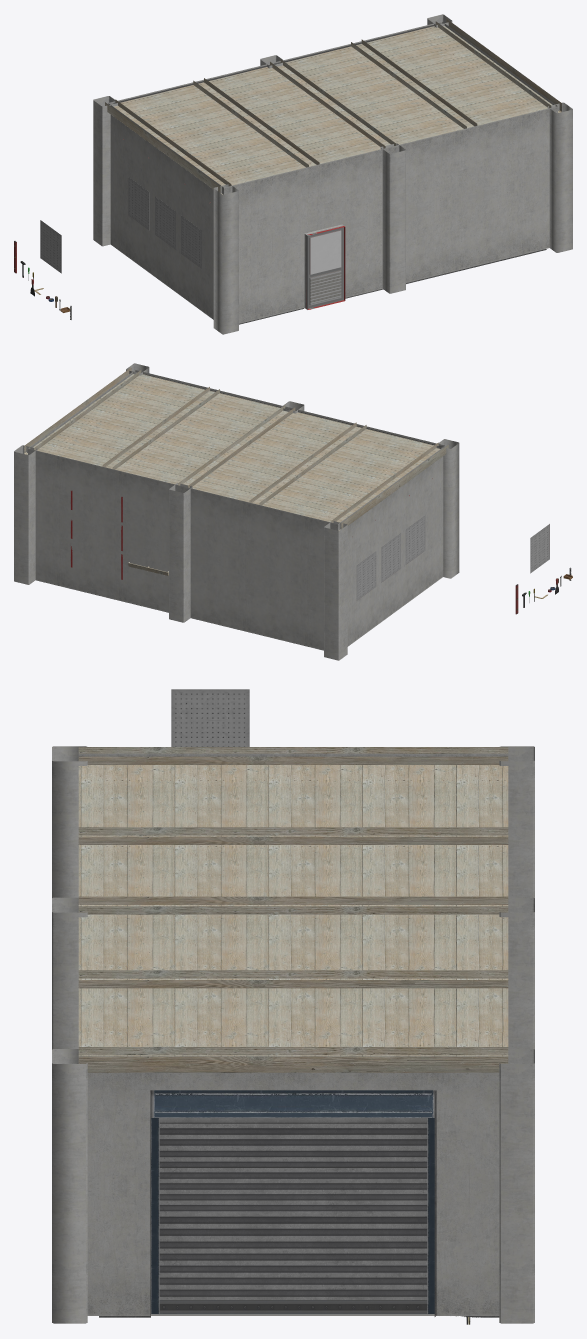
The model's file is oficina_nova.glb.
The picture shows the model from 3 angles, top to bottom: view 1: azimuth 30°, elevation 25°; view 2: azimuth 150°, elevation 25°; view 3: azimuth 270°, elevation 25°; orthographic projection. The views are drawn at different scales.
Visible parts, largest first — view 1: prop_garage_wall, prop_garage_roof, prop_garage_door, prop_garage_wooden_beams.003, prop_garage_wooden_beams.004, prop_garage_wooden_beams.001, prop_garage_wooden_beams.002, prop_garage_wooden_beams, dec_garage_damage_concrete, prop_garage_tool_stand.015, prop_garage_tool_stand.010, prop_garage_tool_stand.013 (+1 smaller); view 2: prop_garage_wall, prop_garage_roof, prop_garage_pillar.004, prop_garage_wooden_beams.003, prop_garage_wooden_beams.004, prop_garage_wooden_beams.002, prop_garage_wooden_beams.001, prop_garage_wooden_beams, prop_garage_tool_stand.015, prop_garage_tool_stand.013, prop_garage_tool_stand.014, prop_garage_tool_stand.010; view 3: prop_garage_roof, prop_garage_wall, prop_garage_roller_shutters, prop_garage_wooden_beams.004, prop_garage_wooden_beams.001, prop_garage_wooden_beams.002, prop_garage_wooden_beams, prop_garage_wooden_beams.003, prop_garage_tool_stand.010, prop_garage_pillar.004, dec_garage_damage_concrete.
Part boxes in pixels (box(x1,y1,x2,y2)): prop_garage_wall: box(93, 14, 572, 334); prop_garage_roof: box(113, 26, 552, 185); prop_garage_door: box(306, 226, 345, 309); prop_garage_wooden_beams.003: box(105, 99, 231, 194); prop_garage_wooden_beams.004: box(435, 19, 561, 112); prop_garage_wooden_beams.001: box(351, 39, 477, 128); prop_garage_wooden_beams.002: box(193, 78, 319, 167); prop_garage_wooden_beams: box(270, 59, 396, 148); dec_garage_damage_concrete: box(113, 23, 546, 324); prop_garage_tool_stand.015: box(128, 177, 149, 230); prop_garage_tool_stand.010: box(40, 220, 61, 273); prop_garage_tool_stand.013: box(181, 215, 201, 268); prop_garage_wall: box(14, 363, 459, 660); prop_garage_roof: box(33, 374, 440, 522); prop_garage_pillar.004: box(169, 483, 192, 622); prop_garage_wooden_beams.003: box(331, 442, 448, 530); prop_garage_wooden_beams.004: box(24, 367, 141, 454); prop_garage_wooden_beams.002: box(249, 422, 366, 505); prop_garage_wooden_beams.001: box(102, 387, 219, 469); prop_garage_wooden_beams: box(178, 405, 295, 487); prop_garage_tool_stand.015: box(356, 551, 376, 600); prop_garage_tool_stand.013: box(405, 515, 425, 564); prop_garage_tool_stand.014: box(381, 533, 400, 582); prop_garage_tool_stand.010: box(530, 524, 549, 573); prop_garage_roof: box(78, 765, 508, 1056); prop_garage_wall: box(52, 746, 534, 1323); prop_garage_roller_shutters: box(150, 1090, 434, 1313); prop_garage_wooden_beams.004: box(78, 1047, 508, 1072); prop_garage_wooden_beams.001: box(78, 970, 508, 988); prop_garage_wooden_beams.002: box(78, 827, 508, 844); prop_garage_wooden_beams: box(78, 896, 508, 914); prop_garage_wooden_beams.003: box(78, 747, 508, 764); prop_garage_tool_stand.010: box(171, 689, 249, 746); prop_garage_pillar.004: box(499, 897, 534, 1049); dec_garage_damage_concrete: box(99, 1090, 499, 1317).
Size of the model in its own units: 14.93 by 4.19 by 6.75.
Materials: 17 (17 with a texture image).
